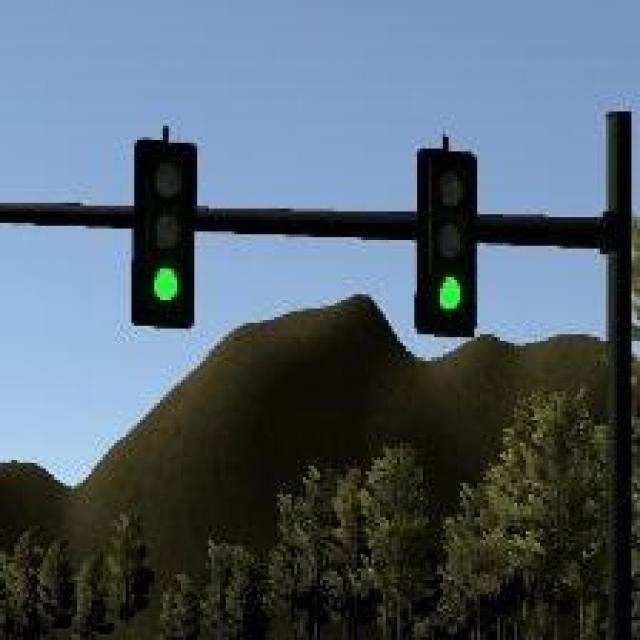green_light: (132, 140, 195, 326), (420, 146, 474, 338)
